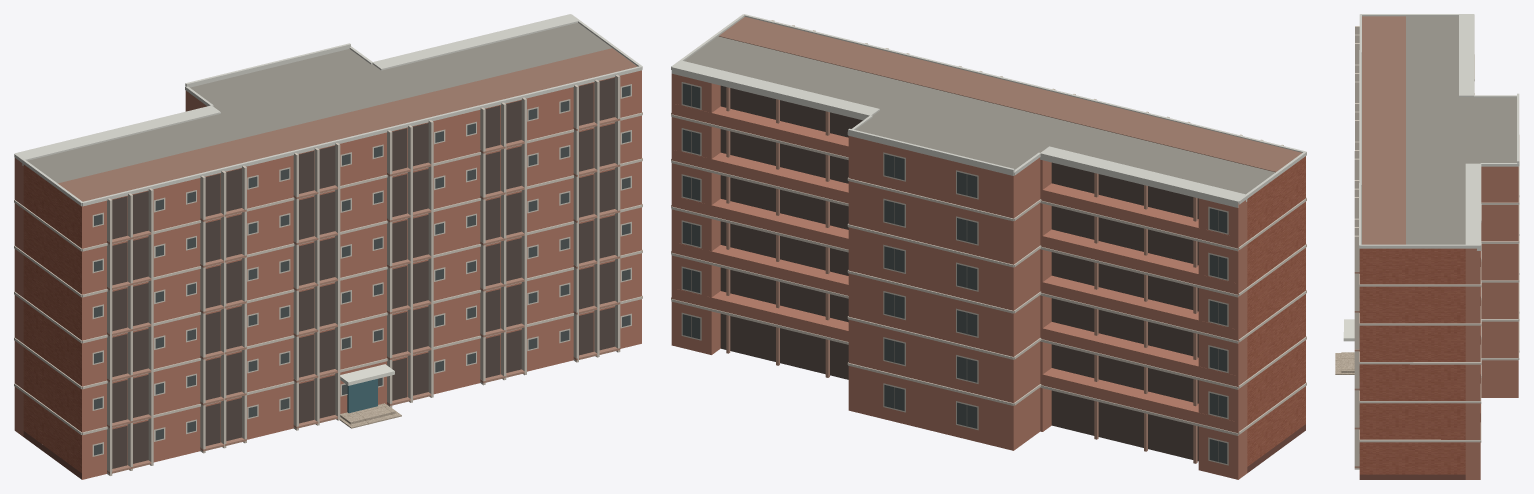
The model's file is chunk-dorm-way-759140880.glb.
3 renders of one model, left to right at view 1: azimuth 30°, elevation 25°; view 2: azimuth 150°, elevation 25°; view 3: azimuth 270°, elevation 25°, orthographic. The views are drawn at different scales.
Parts seen in each view (by area): view 1: chunk-dorm-way-759140880; view 2: chunk-dorm-way-759140880; view 3: chunk-dorm-way-759140880.
Part boxes in pixels (x1,y1,x2,y2): chunk-dorm-way-759140880: (14,14,642,479); chunk-dorm-way-759140880: (671,14,1306,479); chunk-dorm-way-759140880: (1335,14,1519,479).
Size of the model in its own units: 42.24 by 20.12 by 14.18.
14 materials, 2 textured.
